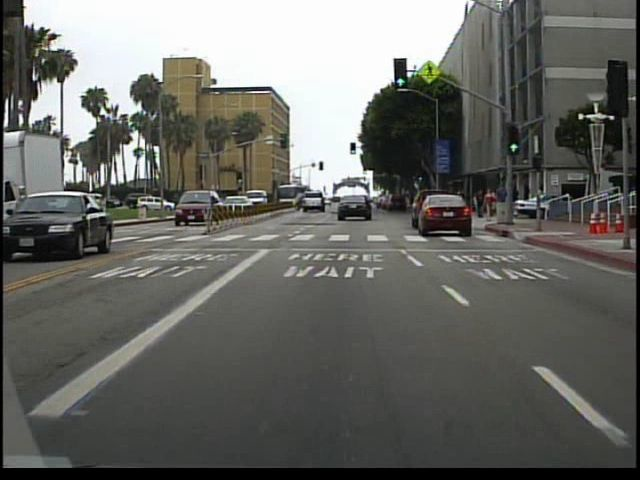person: (480, 186, 496, 224), (496, 182, 510, 219)
